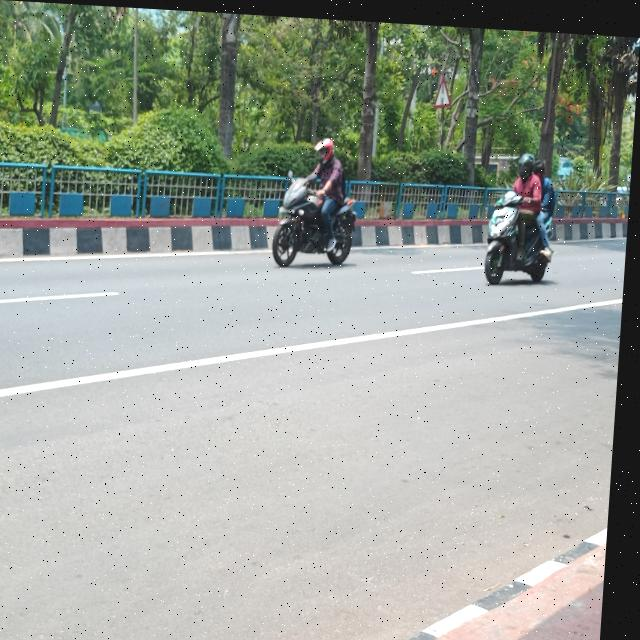bike: (266, 171, 370, 261), (480, 186, 567, 278)
